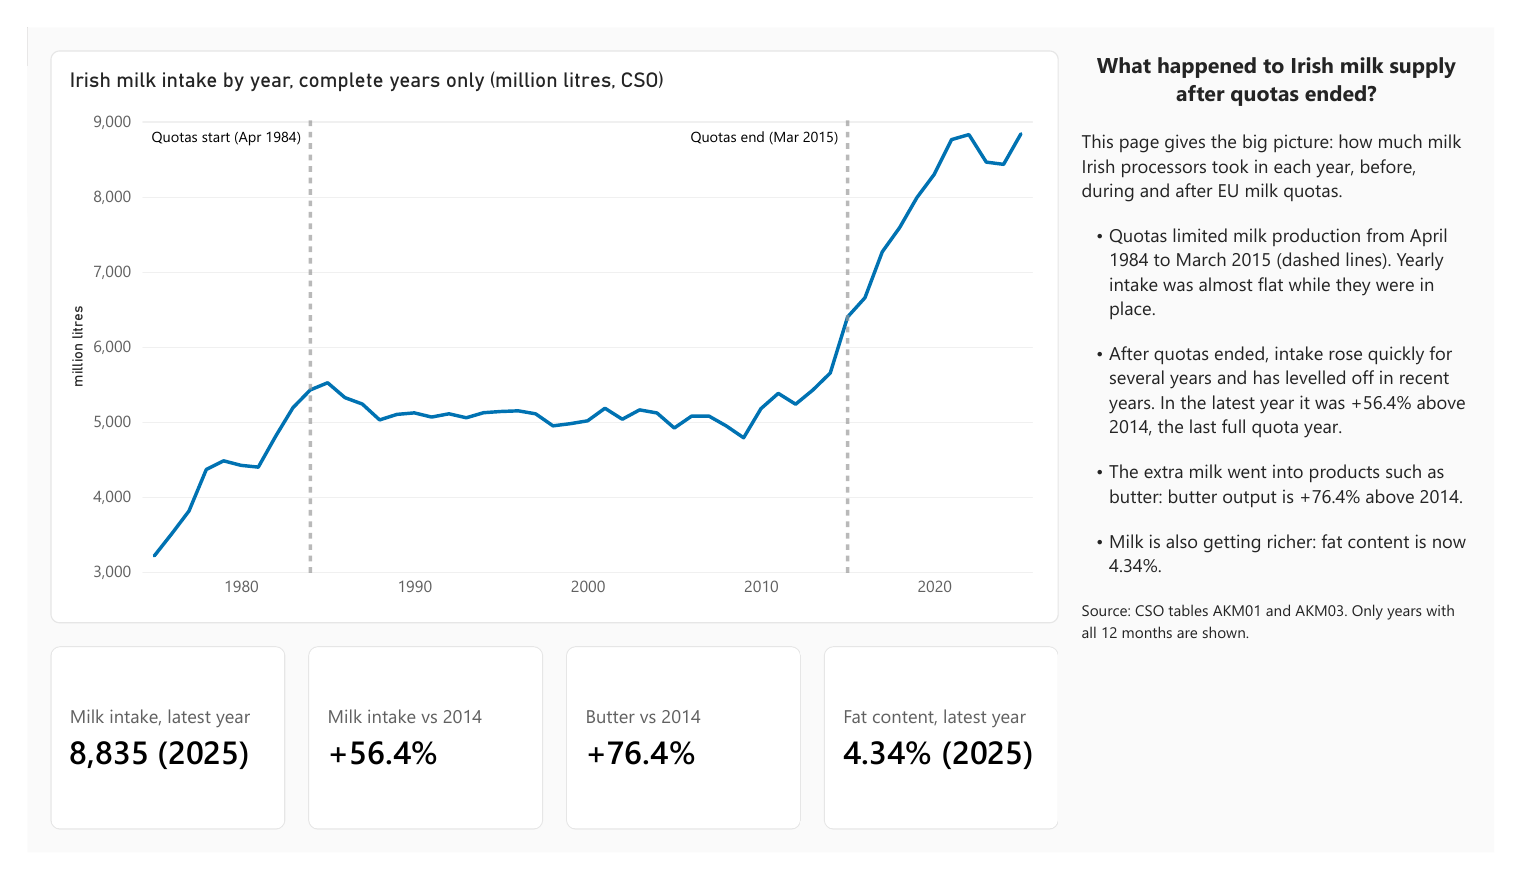

Layout of this report page (visuals, bound fields, positions):
{"tool":"powerbi","page":{"name":"Overview","canvas":[1280,720],"ordinal":0},"visuals":[{"type":"lineChart","title":"Irish milk intake by year, complete years only (million litres, CSO)","fields":{"Category":["dim_date.year"],"Y":["fact_monthly.Intake, complete years (million litres)"]},"box":[20,20,880,500],"z":0},{"type":"cardVisual","fields":{"Data":["fact_monthly.Butter, growth since 2014 (label)"]},"box":[470,540,205,160],"z":1000},{"type":"cardVisual","fields":{"Data":["fact_monthly.Intake, latest complete year (card)"]},"box":[20,540,205,160],"z":2000},{"type":"cardVisual","fields":{"Data":["fact_monthly.Growth since 2014 (label)"]},"box":[245,540,205,160],"z":3000},{"type":"textbox","box":[920,20,340,680],"z":4000},{"type":"cardVisual","fields":{"Data":["fact_monthly.Fat, latest complete year (card)"]},"box":[695,540,205,160],"z":5000}]}

Visuals, with their boxes in screenshot pixels (x1, y1, x2, y2), scaled from the page's 1280x720 canvas onto the 1522x880 screenshot:
"Irish milk intake by year, complete years only (million litres, CSO)" lineChart: (left=24, top=24, right=1070, bottom=636)
cardVisual - fact_monthly.Butter, growth since 2014 (label): (left=559, top=660, right=803, bottom=856)
cardVisual - fact_monthly.Intake, latest complete year (card): (left=24, top=660, right=268, bottom=856)
cardVisual - fact_monthly.Growth since 2014 (label): (left=291, top=660, right=535, bottom=856)
textbox: (left=1094, top=24, right=1498, bottom=856)
cardVisual - fact_monthly.Fat, latest complete year (card): (left=826, top=660, right=1070, bottom=856)
